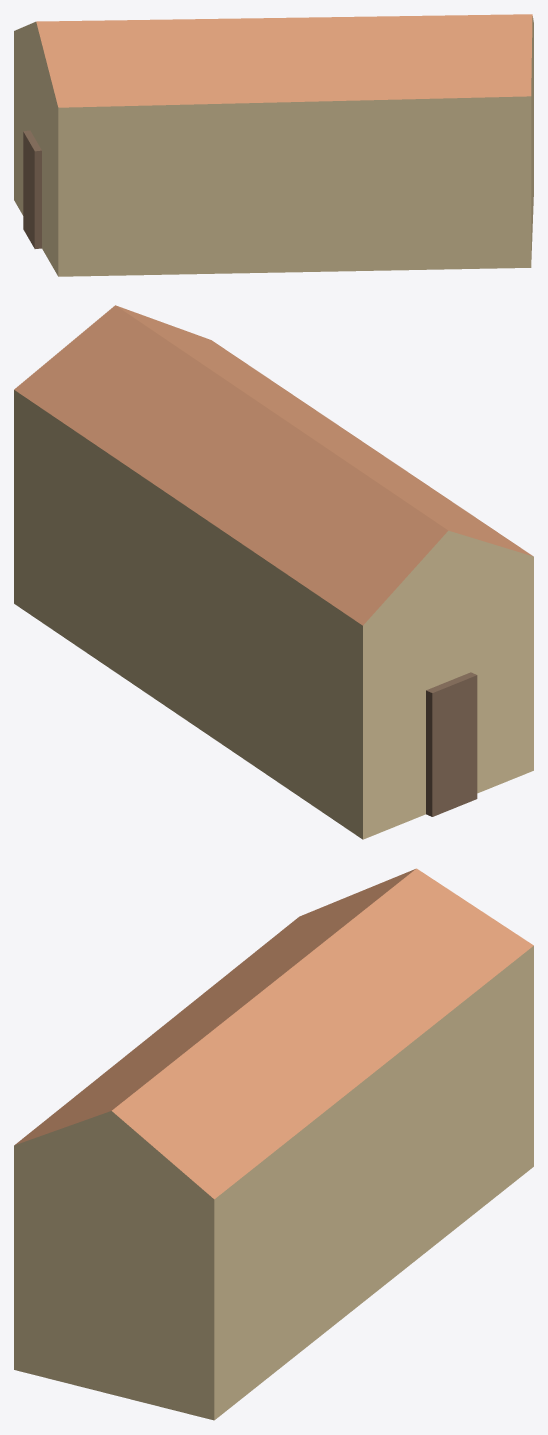
3 renders of one model, top to bottom at view 1: azimuth 30°, elevation 25°; view 2: azimuth 150°, elevation 25°; view 3: azimuth 270°, elevation 25°, orthographic. The views are drawn at different scales.
Parts seen in each view (by area): view 1: E-4a; view 2: E-4a; view 3: E-4a.
Part boxes in pixels (x1=…): E-4a: x1=14, y1=14, x2=533, y2=276; E-4a: x1=14, y1=305, x2=533, y2=839; E-4a: x1=14, y1=868, x2=533, y2=1420.
Size of the model in its own units: 10.43 by 4.88 by 8.1.
